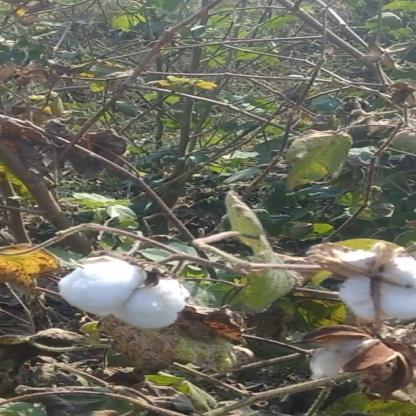cotton_ready: (54, 251, 232, 328), (304, 242, 416, 321)
